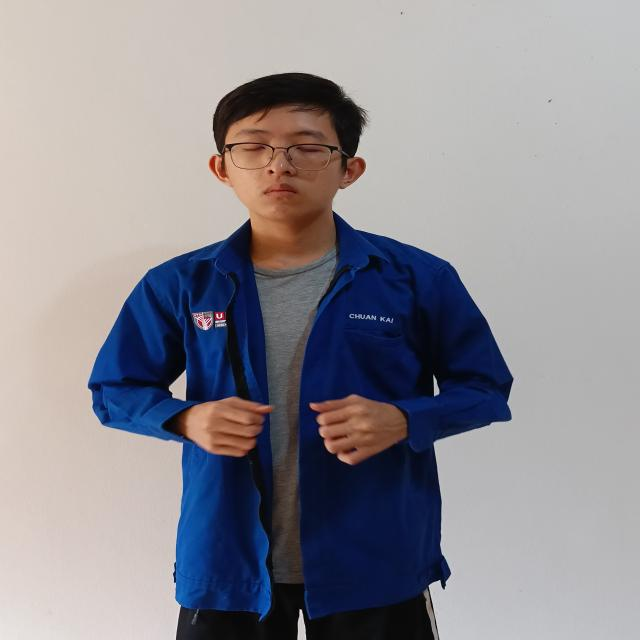person_with_labcoat: (89, 73, 512, 640)
